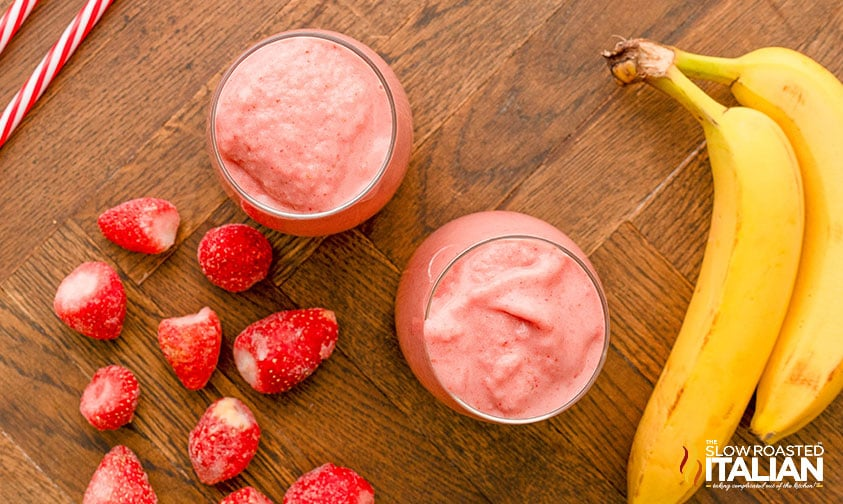Banana: (601, 10, 840, 502)
Strawberry: (224, 302, 353, 399), (180, 392, 263, 493), (46, 259, 138, 345), (148, 304, 227, 393), (92, 188, 189, 260), (192, 218, 278, 296), (75, 358, 148, 439), (74, 439, 158, 504), (275, 457, 375, 504), (208, 475, 270, 504)
